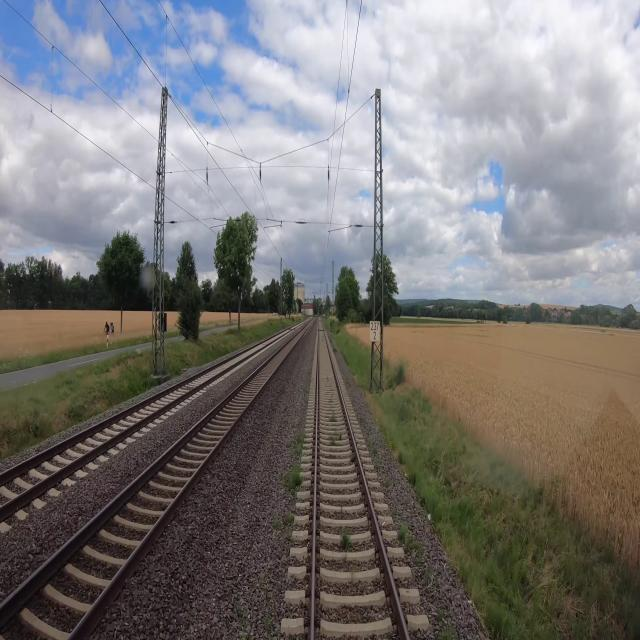Plant: (232, 566, 280, 637), (278, 463, 304, 494), (397, 521, 422, 553), (283, 429, 308, 457), (269, 510, 298, 532), (326, 410, 342, 449), (336, 527, 352, 564)
